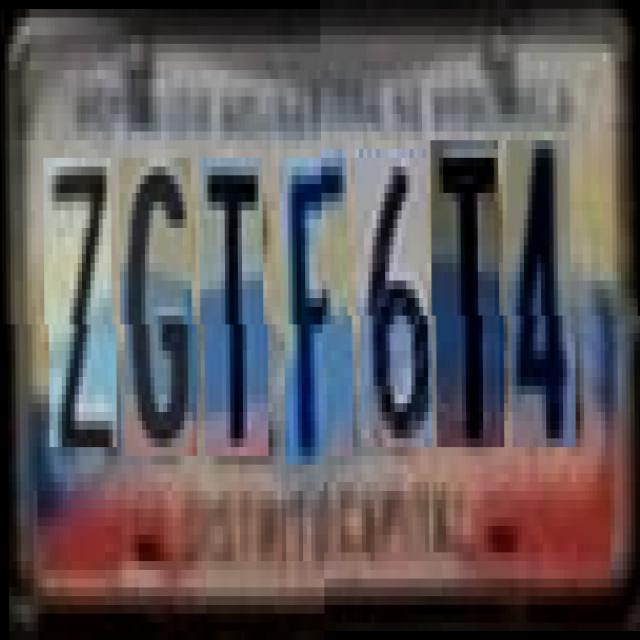4: (510, 149, 576, 456)
6: (359, 158, 432, 456)
F: (284, 158, 352, 464)
G: (124, 158, 196, 456)
T: (435, 149, 504, 456), (203, 158, 268, 456)
Z: (47, 158, 116, 448)
